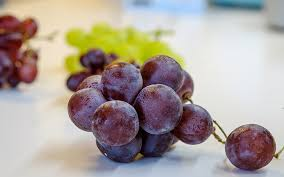Red Grapes: (70, 59, 213, 162), (223, 114, 281, 171)
